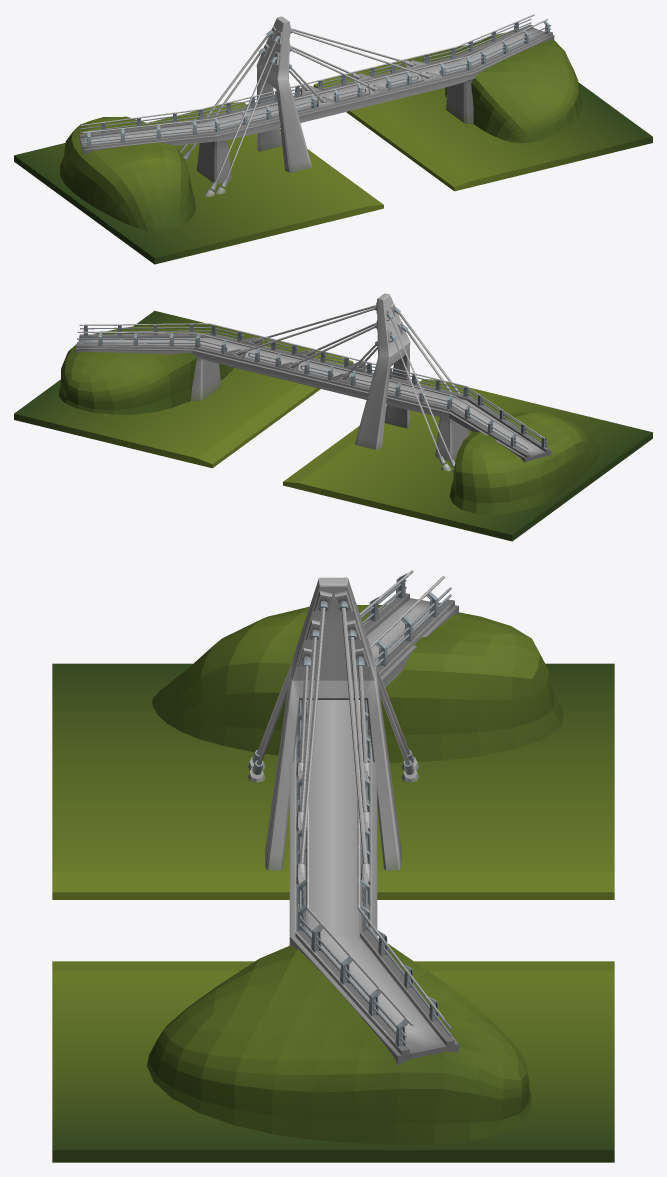
File: Puente Florida.fbx
The picture shows the model from 3 angles, top to bottom: view 1: azimuth 30°, elevation 25°; view 2: azimuth 150°, elevation 25°; view 3: azimuth 270°, elevation 25°; orthographic projection. The views are drawn at different scales.
Visible parts, largest first — view 1: Merged_Puente_Florida_01; view 2: Merged_Puente_Florida_01; view 3: Merged_Puente_Florida_01.
Boxes of the visible parts, left/top/right/bottom form: Merged_Puente_Florida_01: left=14, top=14, right=652, bottom=264; Merged_Puente_Florida_01: left=14, top=293, right=652, bottom=541; Merged_Puente_Florida_01: left=52, top=570, right=614, bottom=1162.
Bounding box in the file's own units: 5524 × 1537 × 2700.
